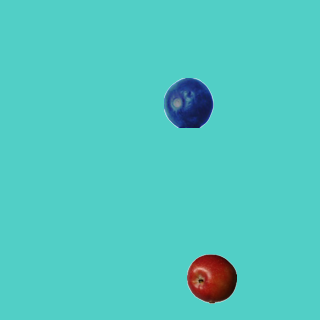Apple Braeburn: (186, 253, 236, 303)
Huckleberry: (163, 77, 213, 127)
